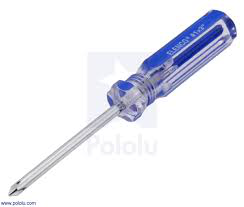screwdriver: (12, 10, 238, 207)
